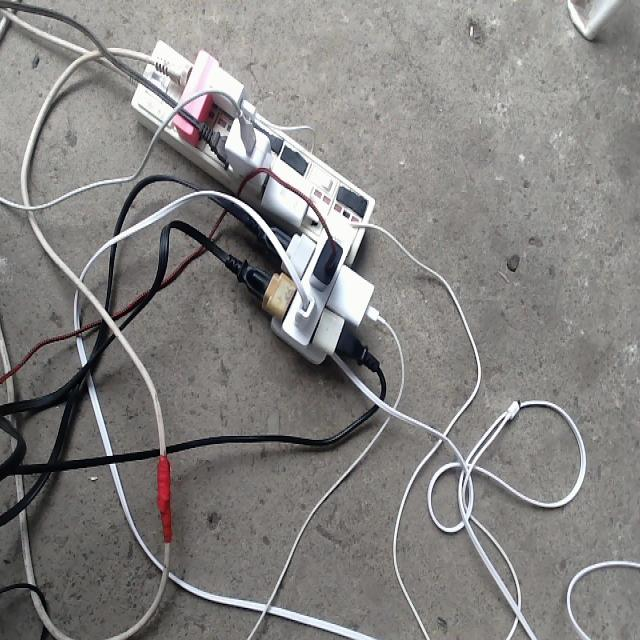-: (132, 39, 375, 366)
